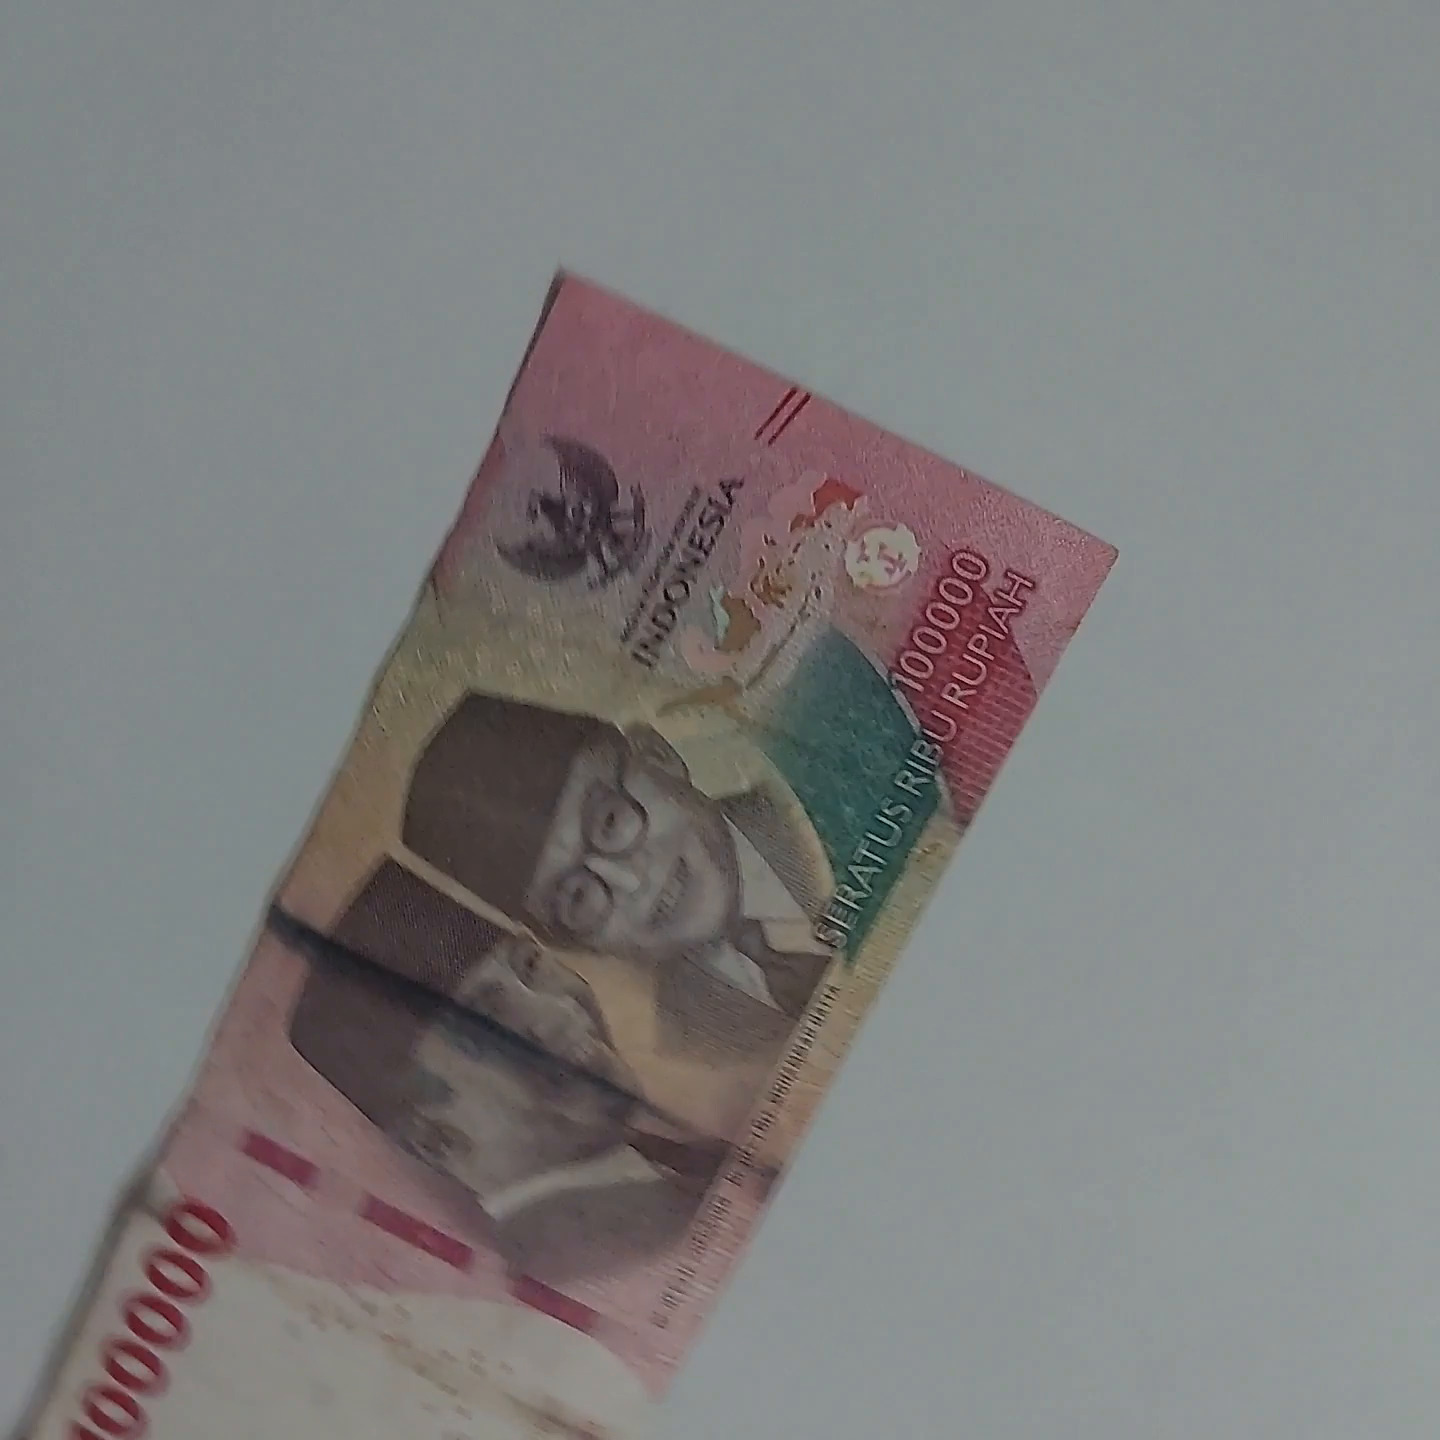100k: (16, 269, 1117, 1440)
